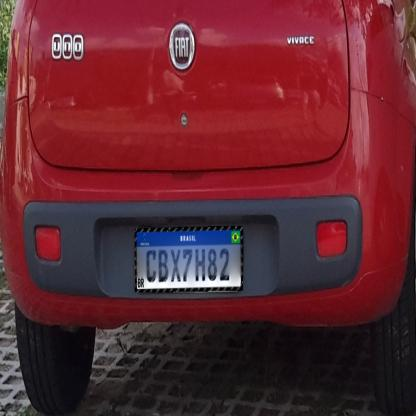PlacaM: (135, 226, 243, 293)
